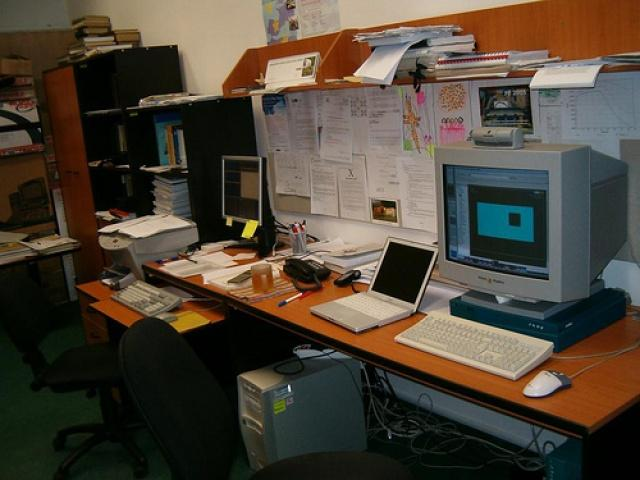AIO PC-Monitor-TV: (220, 153, 267, 227)
